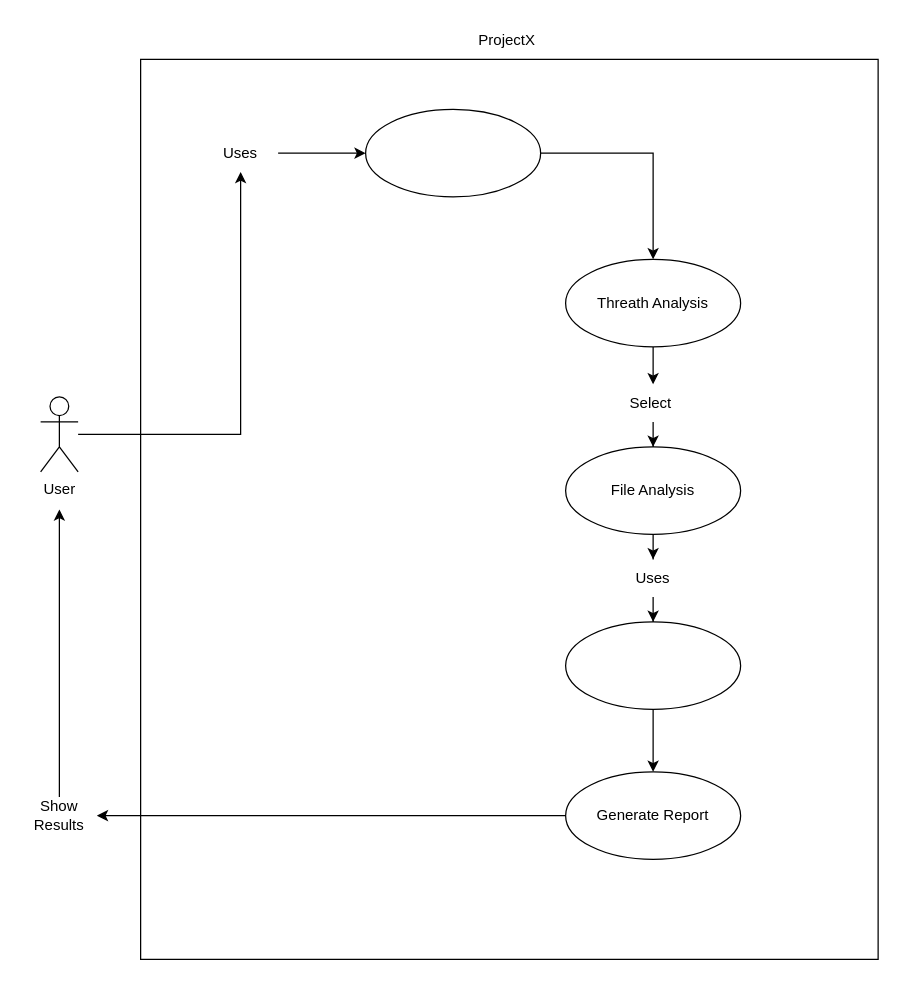
Image size: 900x981. Some labels were removed from this diagram. Here are the shapes that lost their labels. From the top down, the centre of each, then its label:
At [452,152]: "Login".
At [652,665]: "Submit File".
